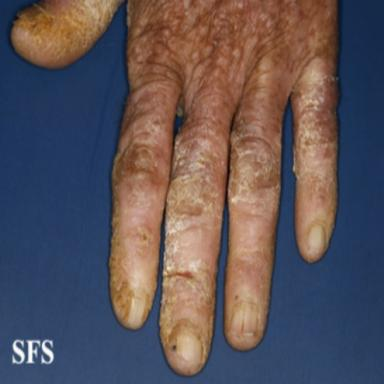Darier_s-Disease: (160, 130, 226, 375), (226, 123, 282, 350), (109, 115, 169, 324), (292, 50, 338, 249), (12, 0, 125, 70)
